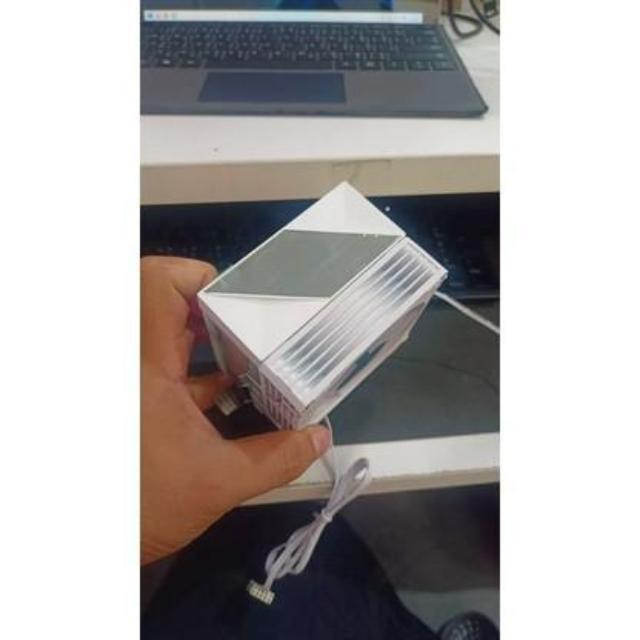CPU_Fan: (192, 181, 450, 441)
